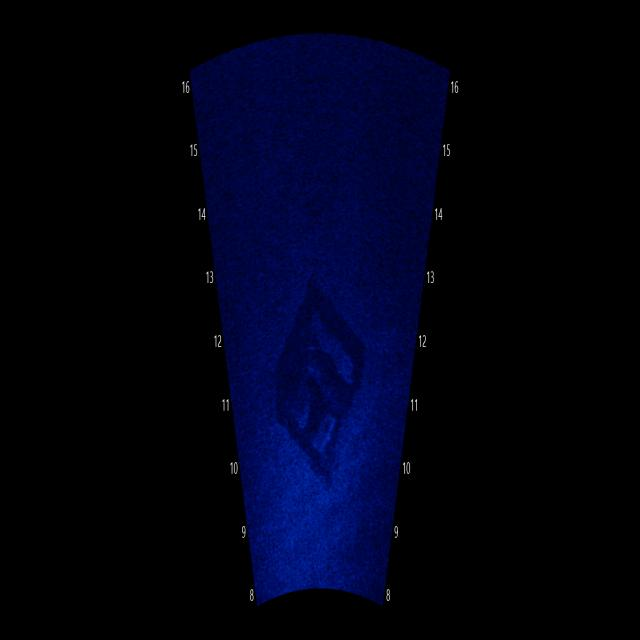square: (263, 266, 378, 522)
